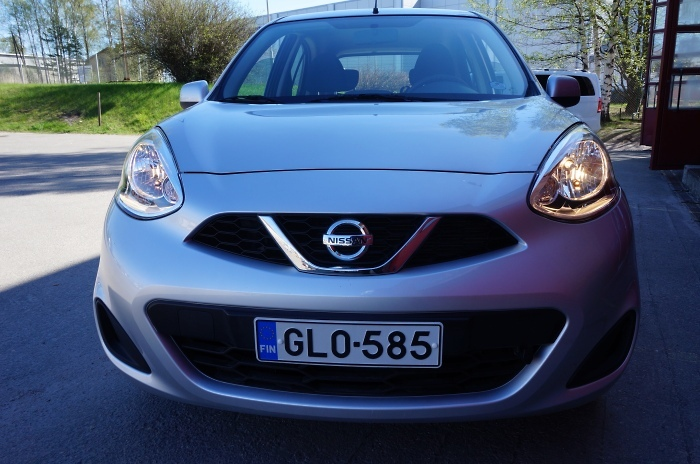license: (250, 319, 434, 375)
